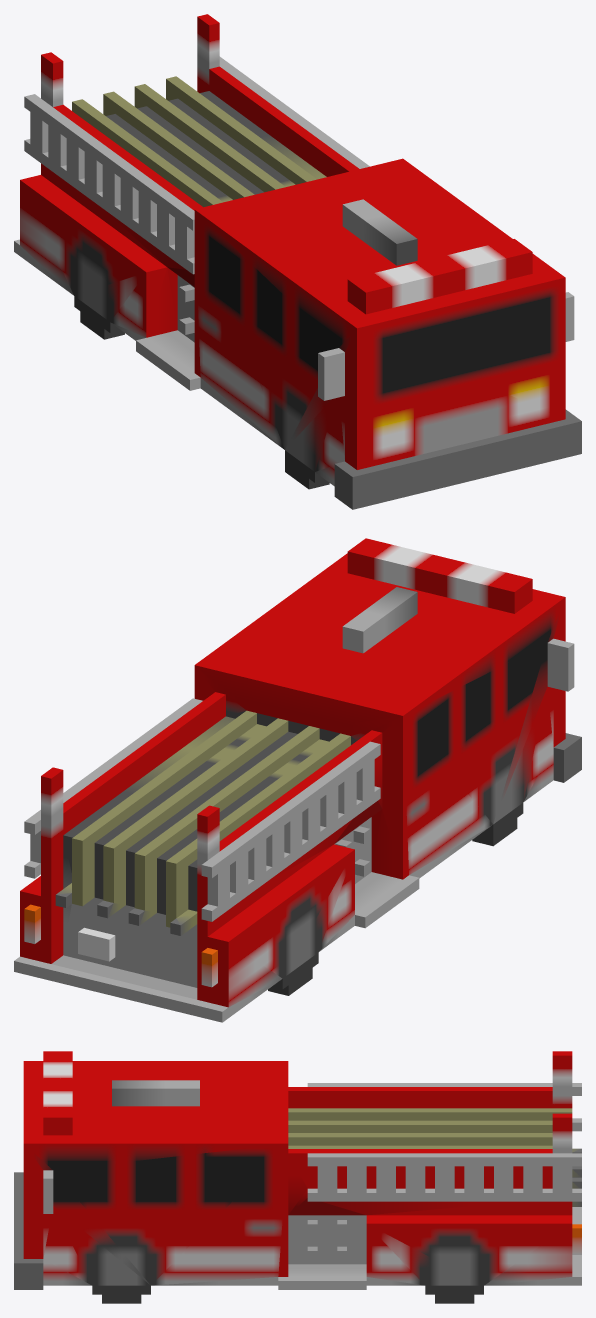
Rendered from veh_fire.dae.
3 renders of one model, top to bottom at view 1: azimuth 30°, elevation 25°; view 2: azimuth 150°, elevation 25°; view 3: azimuth 270°, elevation 25°, orthographic. The views are drawn at different scales.
Visible parts, largest first — view 1: veh_fire; view 2: veh_fire; view 3: veh_fire.
Boxes of the visible parts, x1,y1,x2,y2 form: veh_fire: (14, 14, 581, 509); veh_fire: (14, 538, 581, 1022); veh_fire: (14, 1051, 581, 1303).
Size of the model in its own units: 2.4 by 5.8 by 2.
Materials: 1 (1 with a texture image).
